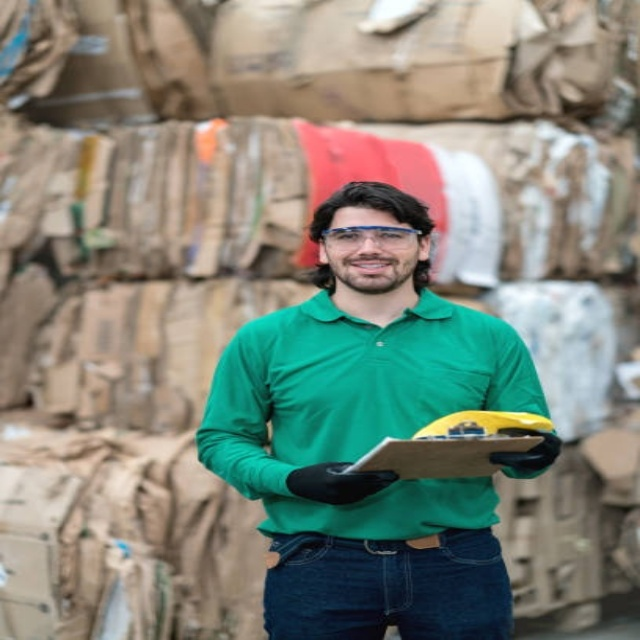Gafas: (318, 224, 424, 253)
Guantes: (286, 461, 399, 506), (489, 430, 562, 473)
Sin_mascara: (342, 255, 402, 288)
